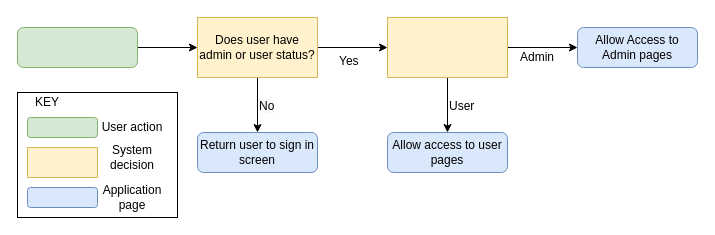
Some shapes in this 715 by 235 pixel diagram are drawn without their labels. Here are the shapes that lost their labels. From the top down, the box of each, then its label:
(16, 26, 138, 68): User navigates to protected page
(386, 16, 508, 78): Is user admin or user?
